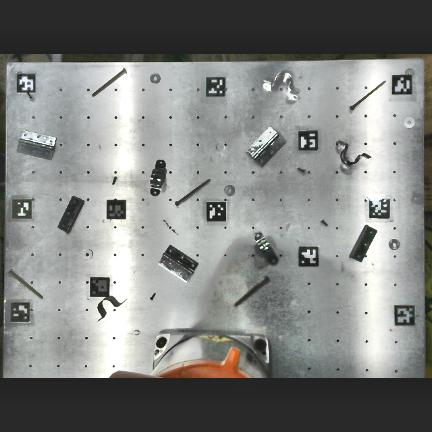black_screw: (26, 93, 32, 99), (150, 294, 156, 300), (321, 220, 327, 226), (112, 177, 116, 184), (297, 169, 304, 172)
clamp: (263, 72, 296, 101), (336, 142, 370, 164), (254, 232, 277, 264), (97, 296, 125, 321), (150, 160, 165, 195)
golden_screw: (349, 81, 385, 112), (234, 277, 268, 306), (8, 270, 42, 298), (91, 69, 125, 96), (174, 179, 209, 205)
hinge: (247, 127, 284, 166), (158, 246, 197, 282), (17, 131, 55, 159), (349, 225, 376, 261), (58, 197, 82, 232)
marker: (394, 304, 415, 325), (12, 198, 32, 219), (370, 198, 390, 218), (299, 246, 319, 266), (298, 130, 318, 150), (206, 75, 226, 95), (10, 300, 29, 321), (207, 201, 226, 222), (392, 75, 412, 94), (17, 73, 36, 93), (107, 200, 126, 219), (90, 278, 109, 296)
washer: (80, 249, 92, 259), (388, 239, 398, 249), (149, 73, 159, 83), (224, 185, 233, 196), (404, 118, 413, 128)
